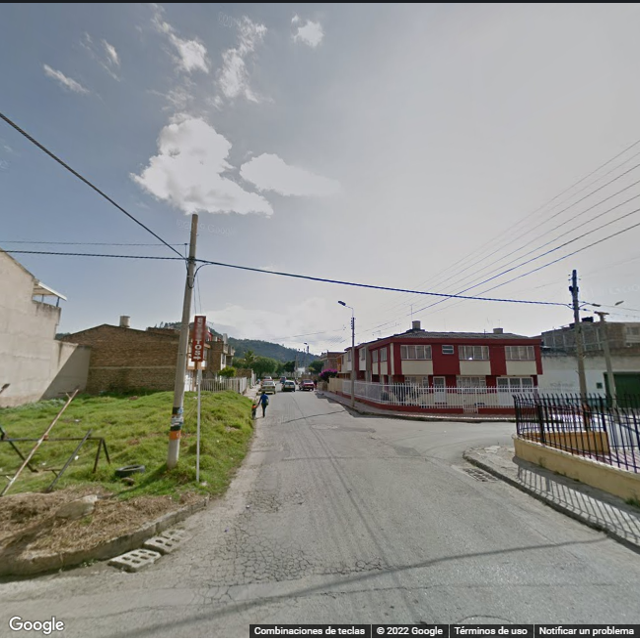D00: (221, 589, 250, 626)
D10: (322, 576, 618, 589)
D20: (206, 521, 309, 580)
